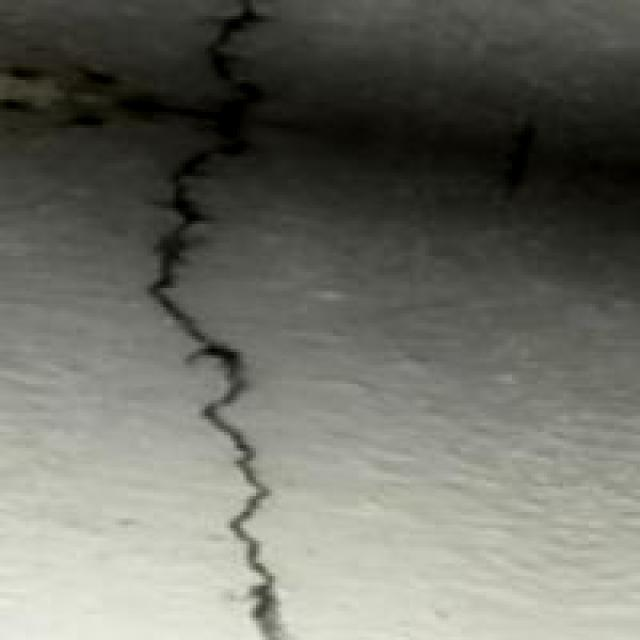crack: (138, 0, 304, 640)
